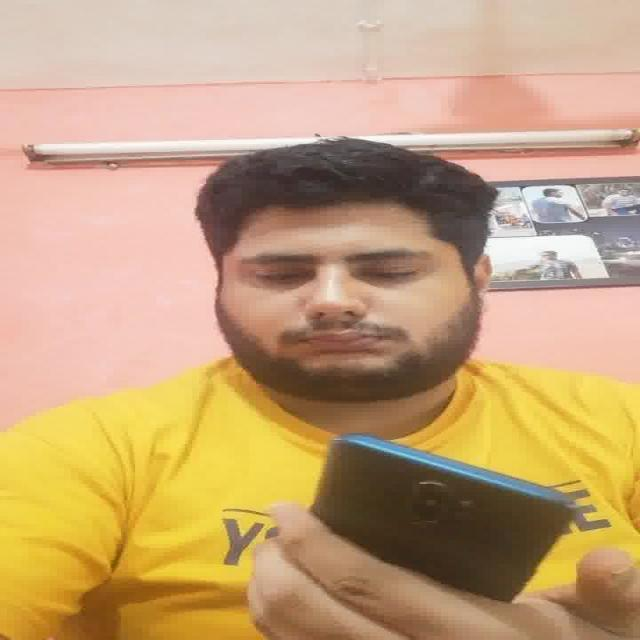Phone: (312, 431, 573, 608)
